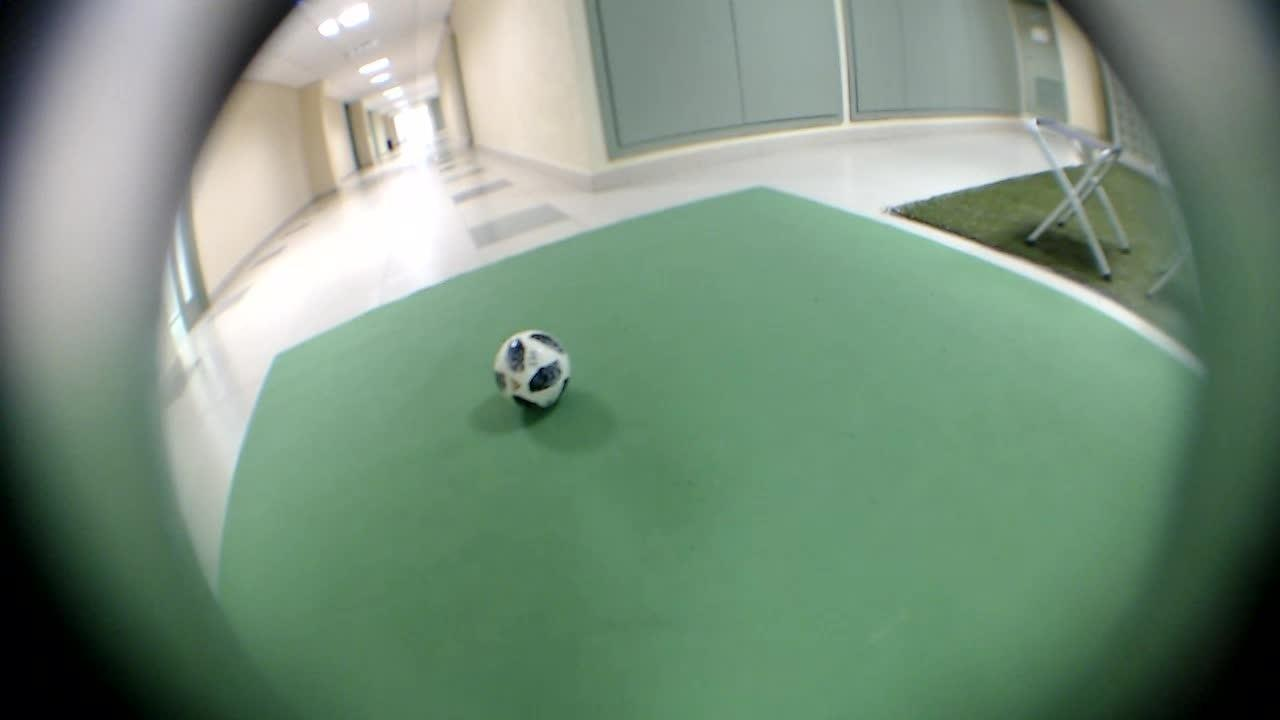ball: (483, 318, 580, 416)
